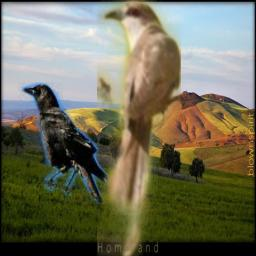Crow: (18, 81, 109, 204)
Cuckoo: (97, 0, 181, 256)
